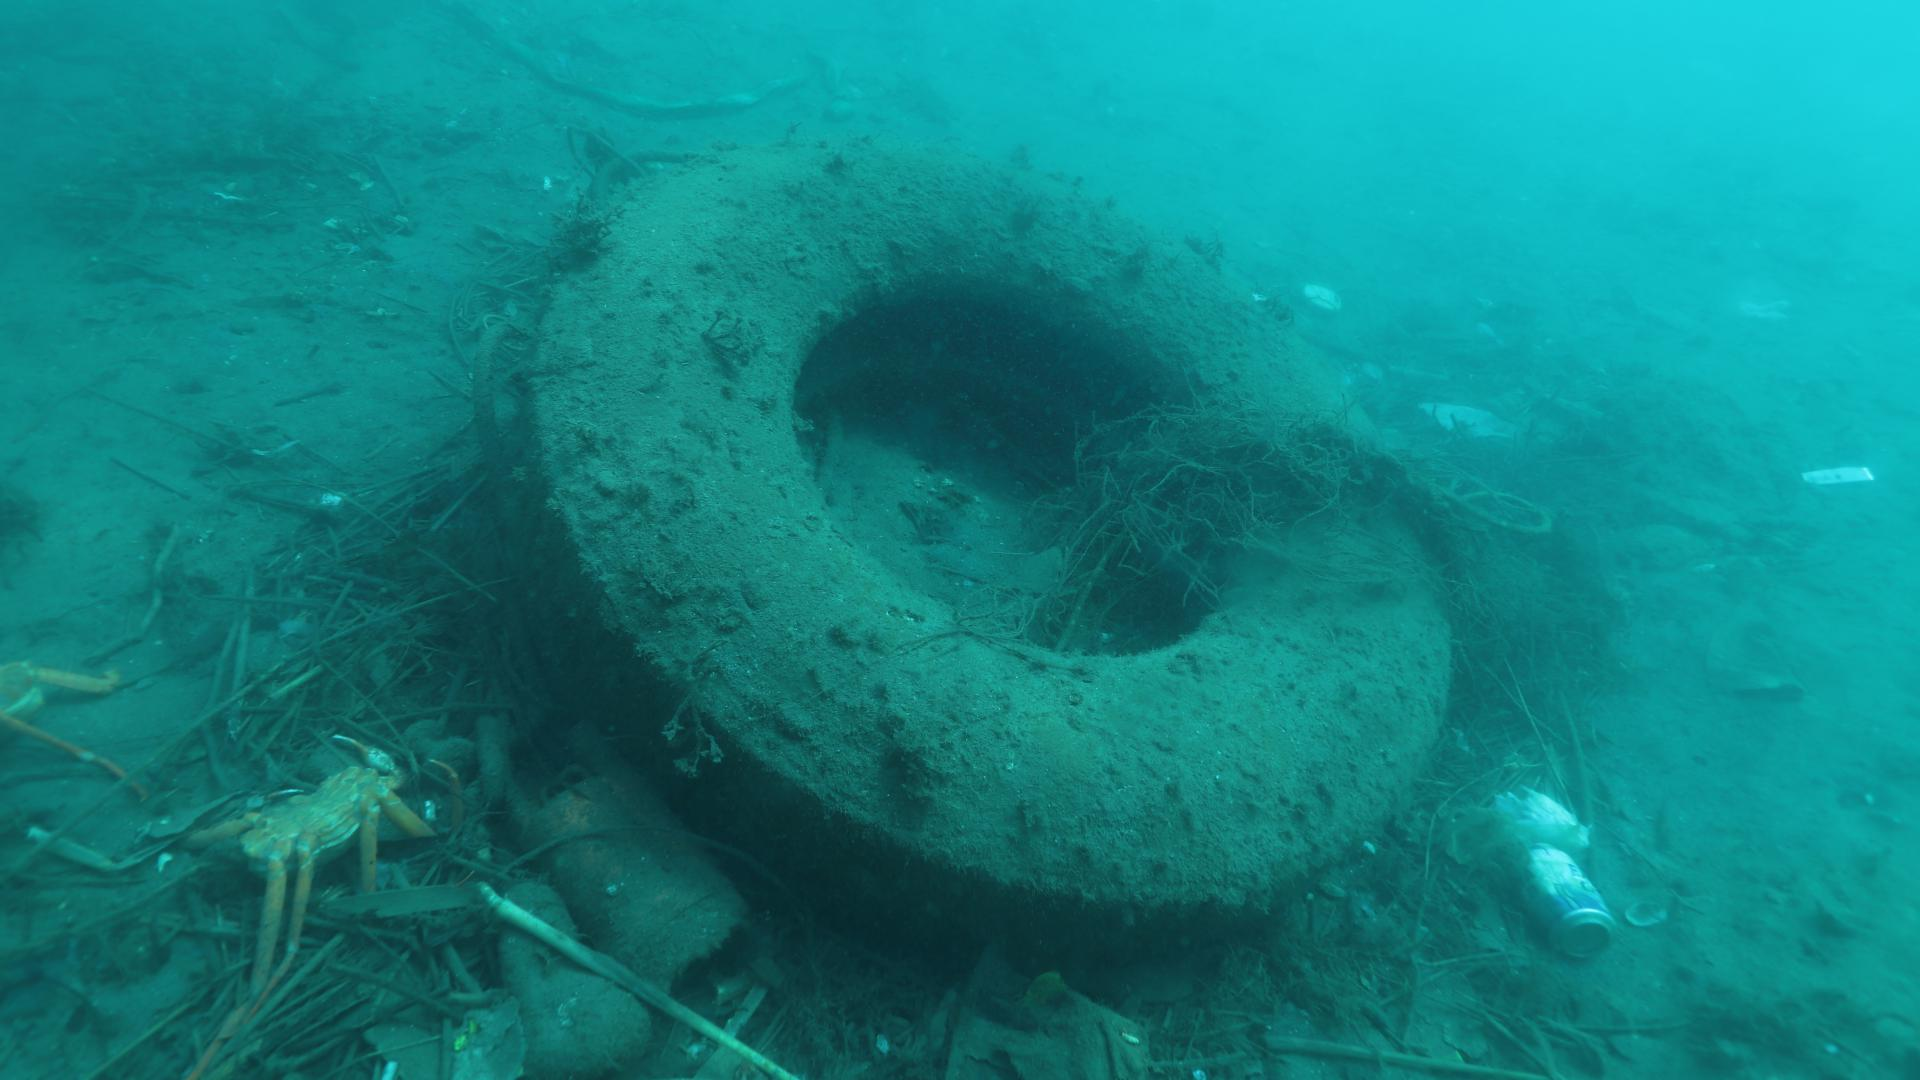tire: (517, 140, 1452, 975)
